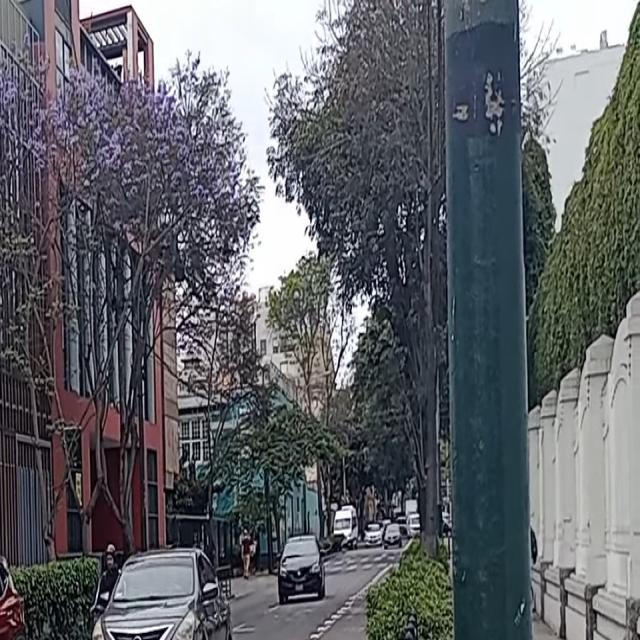car: (90, 550, 233, 640), (277, 537, 325, 600), (0, 545, 31, 640), (333, 509, 358, 545), (362, 524, 382, 548), (385, 525, 402, 548)
